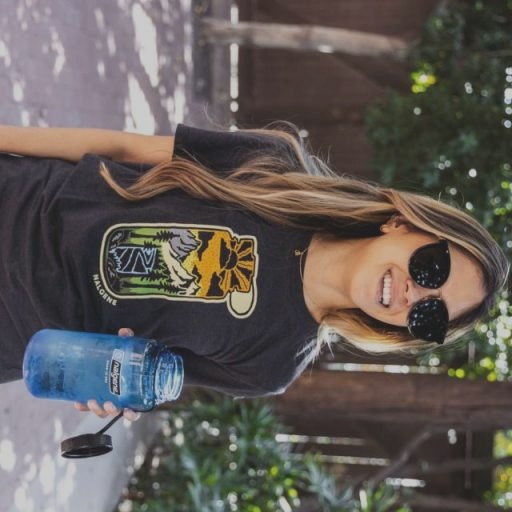bottle: (21, 328, 185, 462)
